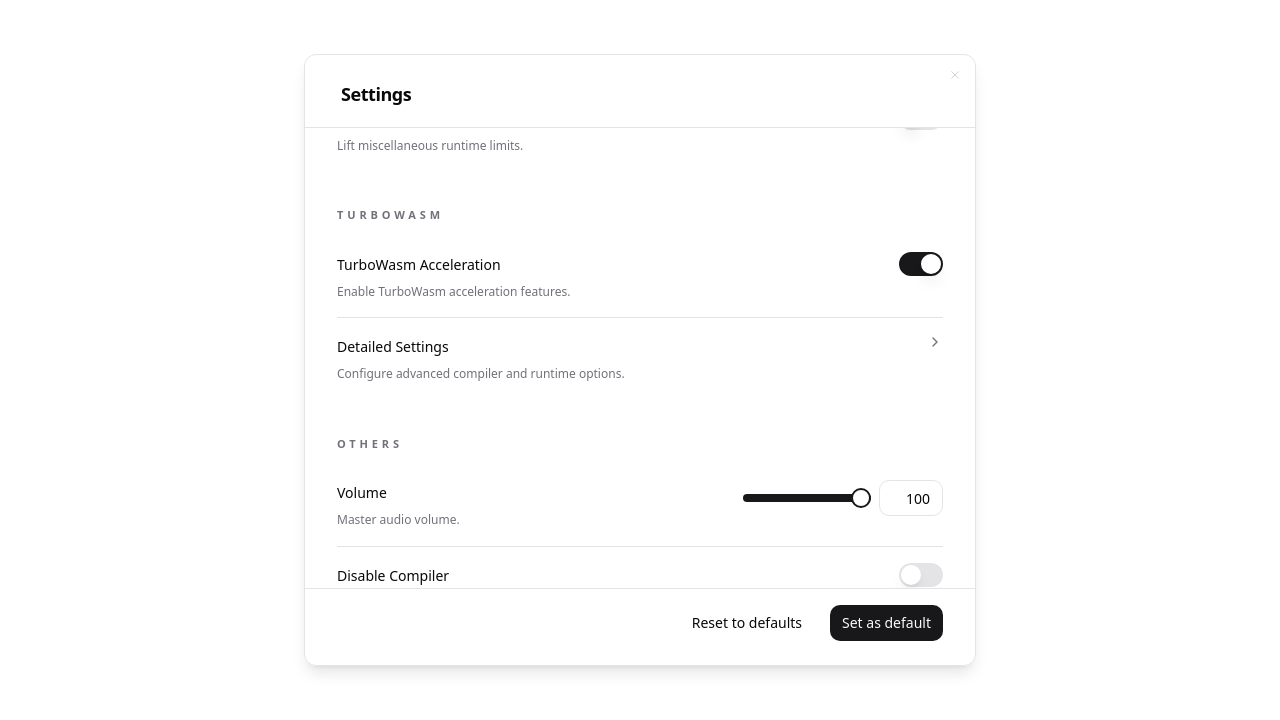
Test: SettingsDialog — Detailed Settings screen (view stack push/pop) › clicking the Back button pops back to the root (= Detailed Settings screen disappears)
(page scrolled)
What coordinates should you click on to do the following:
click the button with test id "settings-detailed-row"
I would click on:
 (393, 346)
Its box is 337,317 -> 943,400.
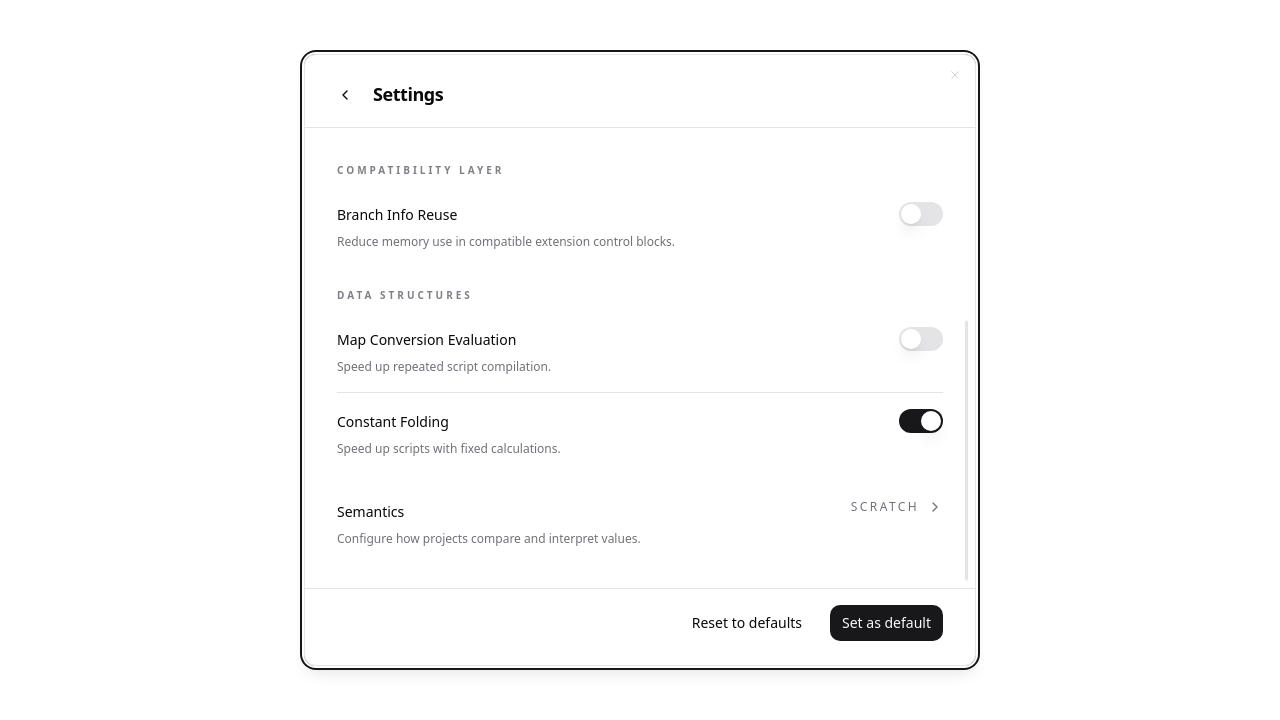
What coordinates should you click on to do the following:
click the button with test id "settings-back"
I would click on:
 (345, 95)
Its box is 329,79 -> 361,111.
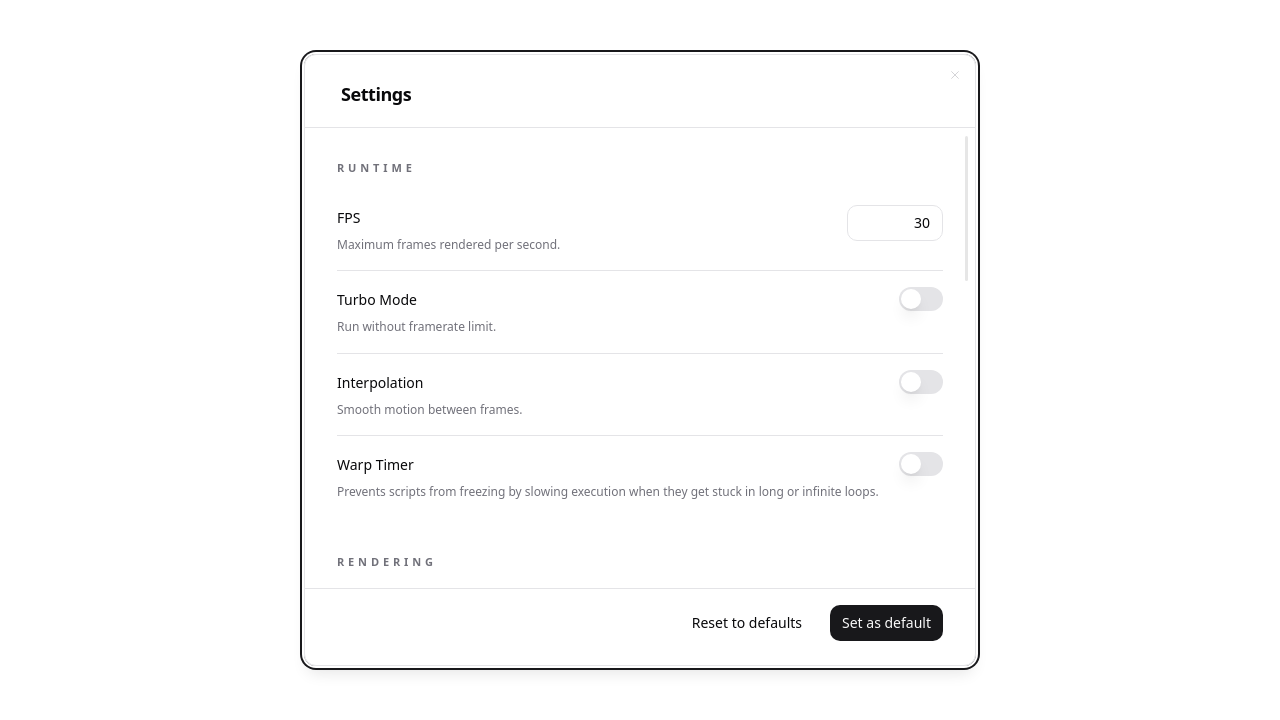
Expected: the button with test id "settings-back" is gone
Expected: the heading "Runtime" is shown, 337,160 -> 416,175
